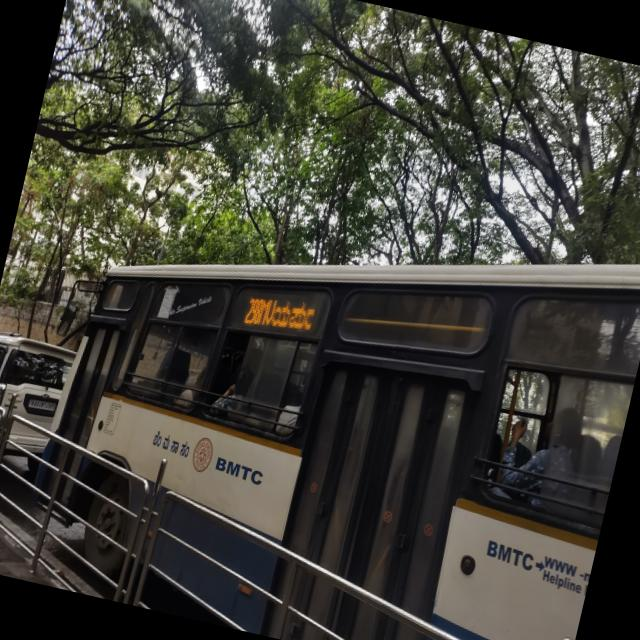bus: (15, 123, 640, 640)
display: (232, 276, 328, 348)
dnumber: (240, 286, 278, 337)
